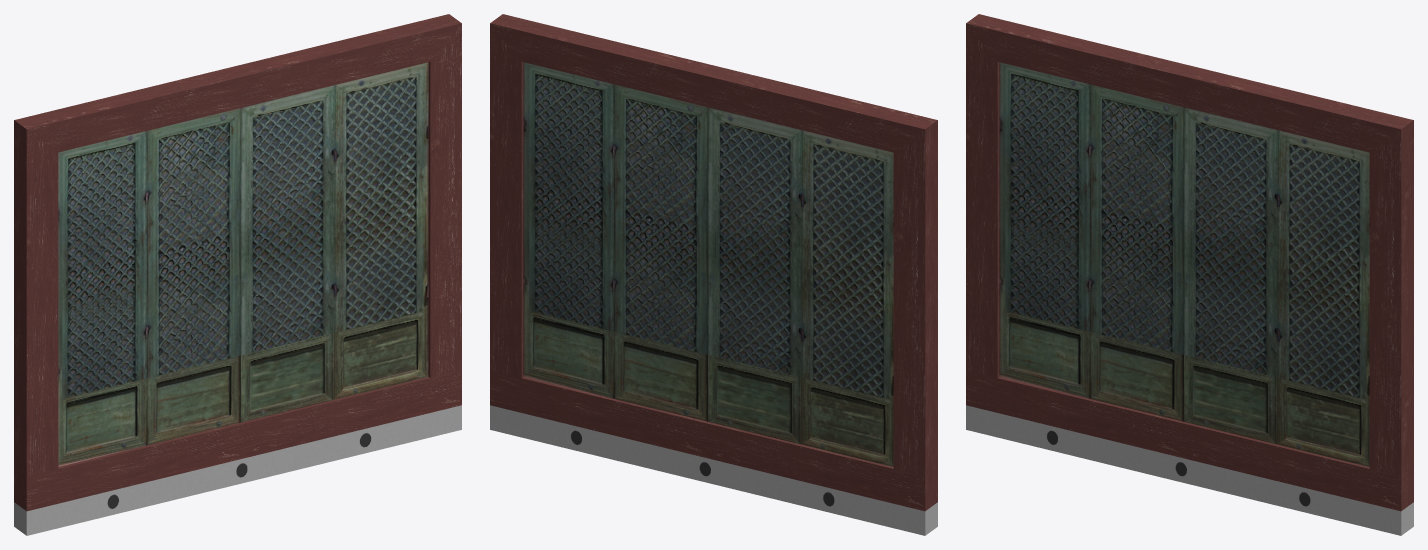
File: SM_Sun_Dae_Wall_A.fbx
3 views of the same model, side by side, from view 1: azimuth 30°, elevation 25°; view 2: azimuth 150°, elevation 25°; view 3: azimuth 330°, elevation 25° (orthographic).
Visible parts, largest first — view 1: SM_Sun_Dae_Wall_A; view 2: SM_Sun_Dae_Wall_A; view 3: SM_Sun_Dae_Wall_A.
Part boxes in pixels (box(x1,y1,x2,y2)): SM_Sun_Dae_Wall_A: box(14, 14, 461, 535); SM_Sun_Dae_Wall_A: box(490, 14, 937, 535); SM_Sun_Dae_Wall_A: box(966, 14, 1413, 535).
Size of the model in its own units: 396 by 354 by 20.
